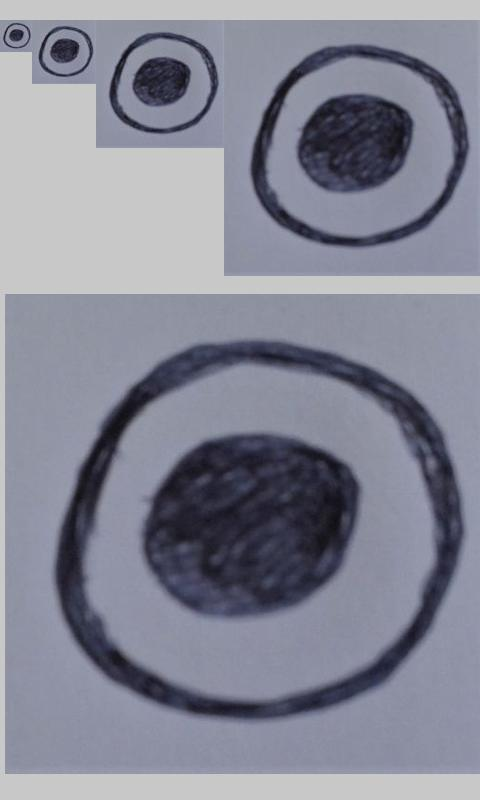radio_button: (54, 337, 462, 725), (247, 41, 470, 251), (108, 32, 219, 134), (38, 26, 94, 78), (2, 22, 31, 49)
